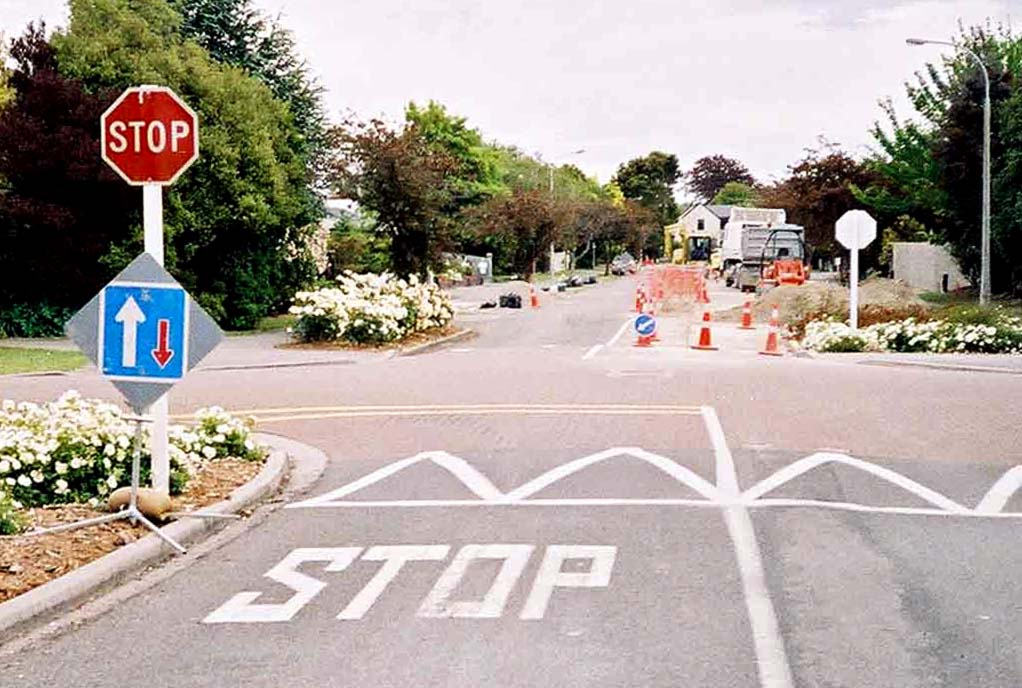stop: (99, 85, 199, 187)
